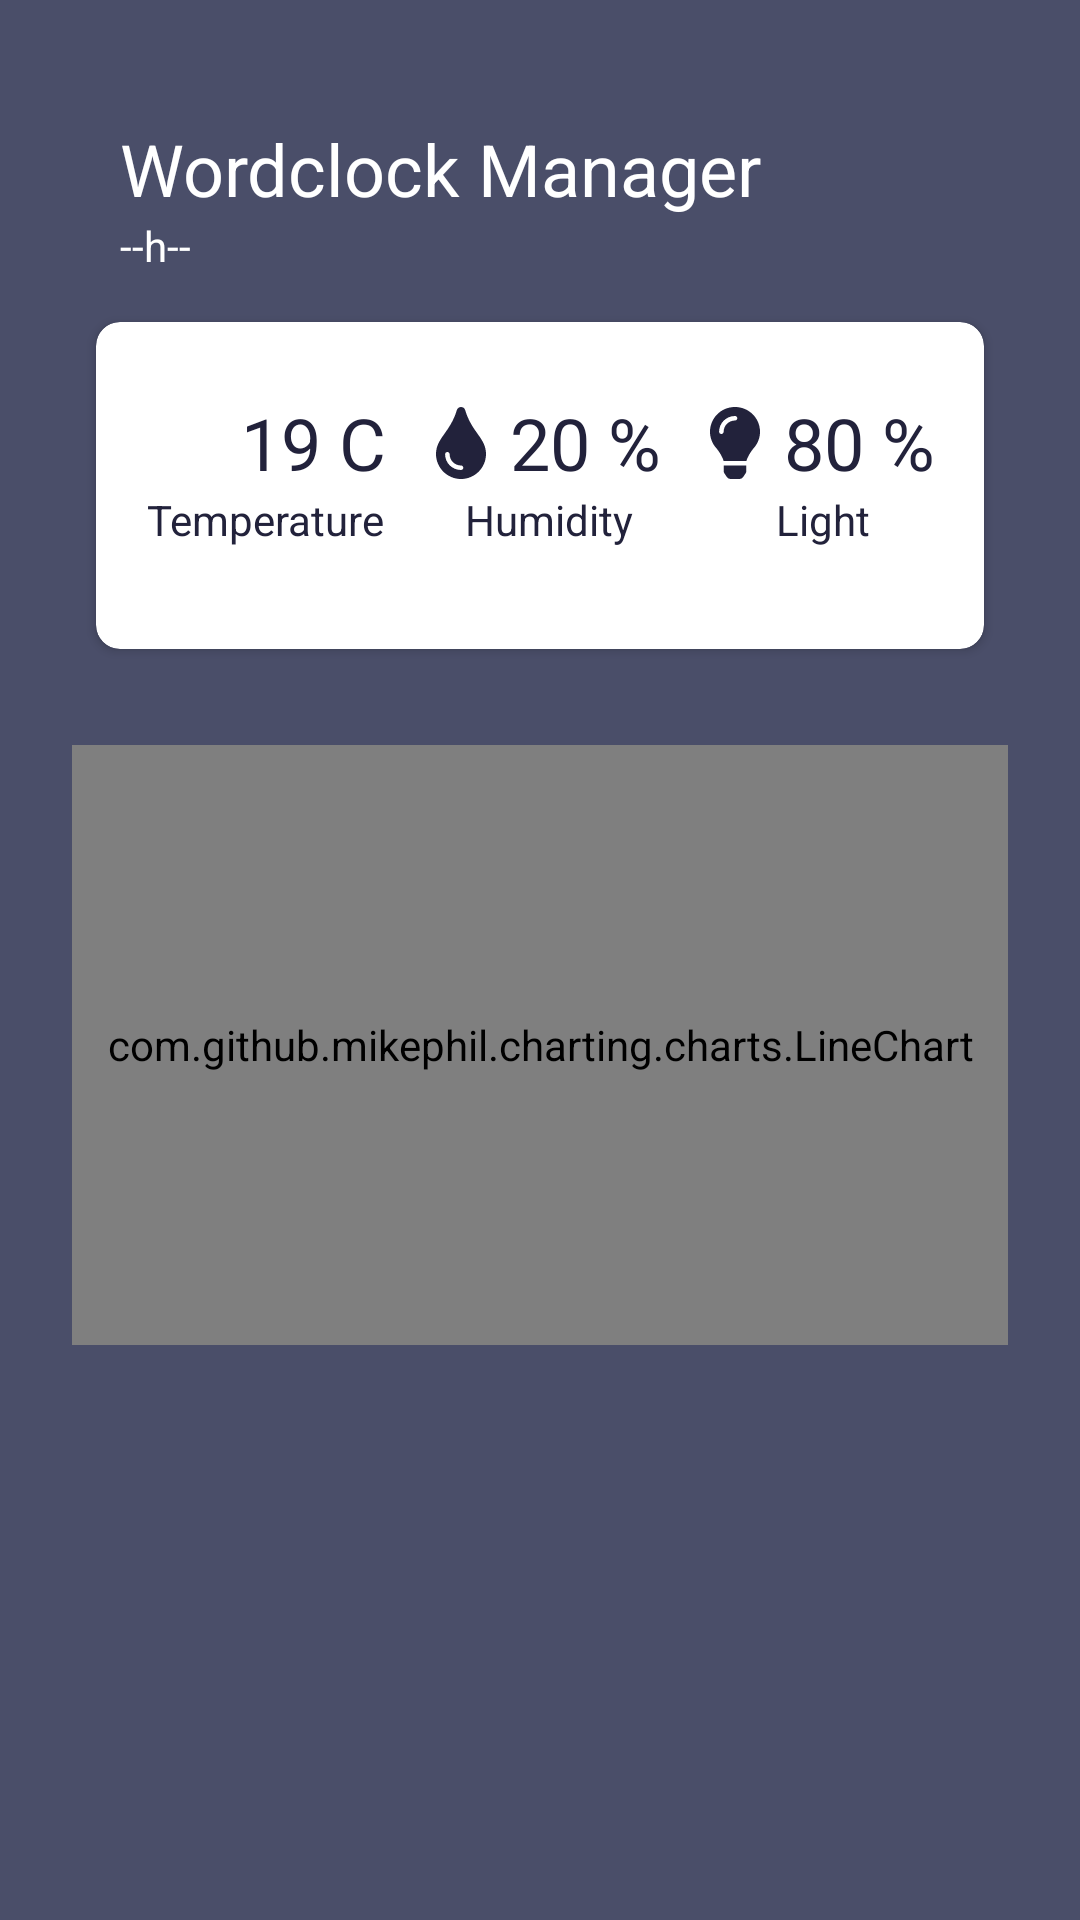

Where icons sit on this 1080×1920 app screen, as (x1, y1, x2, y2):
tint: (436, 407, 486, 479)
